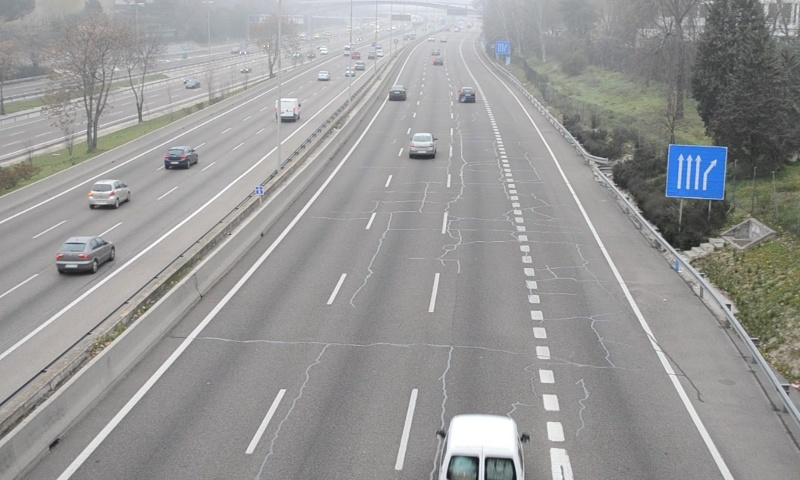car: (409, 132, 435, 157), (388, 85, 406, 102), (458, 86, 475, 102)
van: (437, 413, 525, 480)
